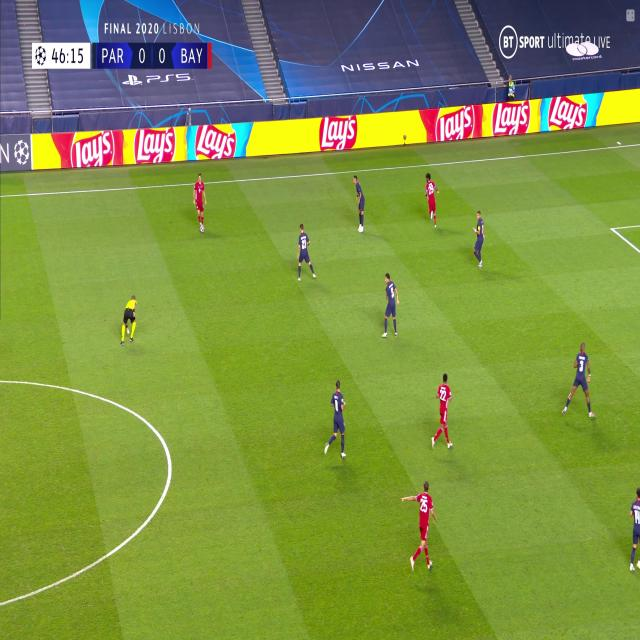ball: (200, 225, 204, 234)
player: (560, 341, 598, 423), (406, 480, 436, 574), (324, 379, 348, 462), (430, 372, 454, 451), (294, 222, 318, 282), (380, 271, 399, 340), (627, 485, 640, 575), (422, 173, 441, 228), (470, 208, 486, 268), (120, 292, 138, 344), (192, 172, 207, 234), (351, 174, 366, 234)
